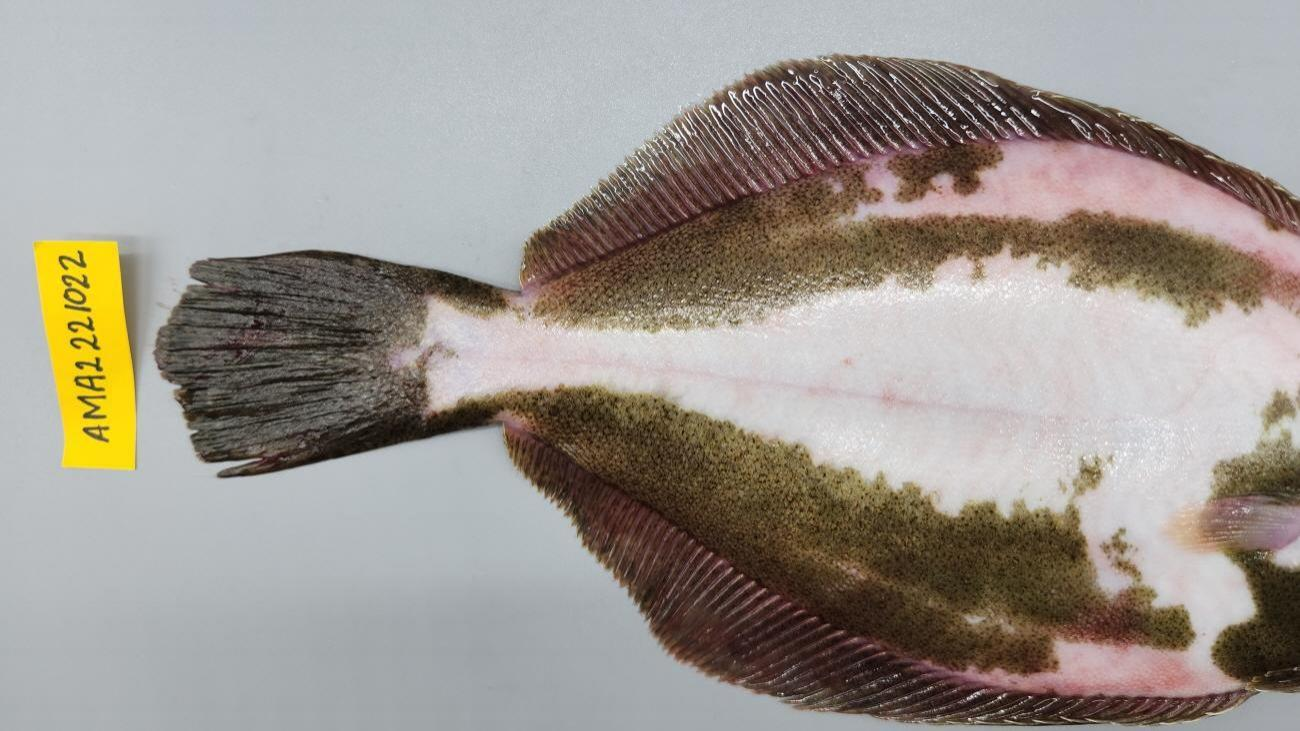MAFDH: (518, 49, 1295, 290)
